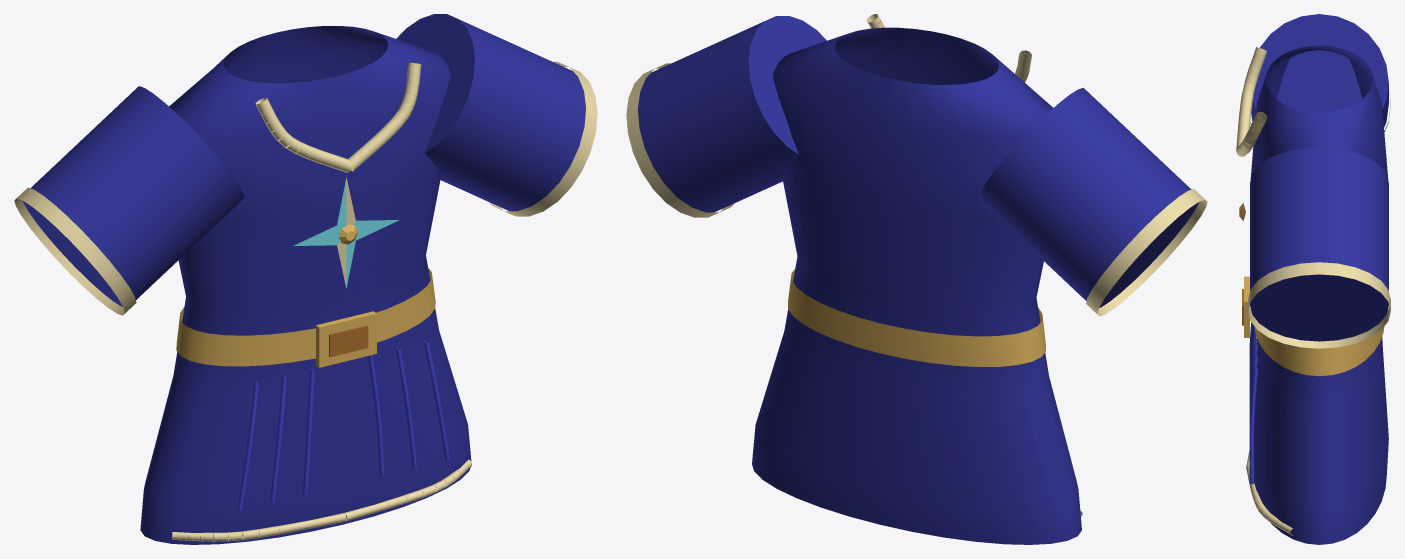
The model's file is Star.obj.
3 views of the same model, side by side, from view 1: azimuth 30°, elevation 25°; view 2: azimuth 150°, elevation 25°; view 3: azimuth 270°, elevation 25° (orthographic). The views are drawn at different scales.
Visible parts, largest first — view 1: Star; view 2: Star; view 3: Star.
Part boxes in pixels (x1,y1,x2,y2): Star: [14, 14, 597, 544]; Star: [626, 14, 1207, 544]; Star: [1236, 14, 1390, 544].
Size of the model in its own units: 28.59 by 22 by 7.8.
